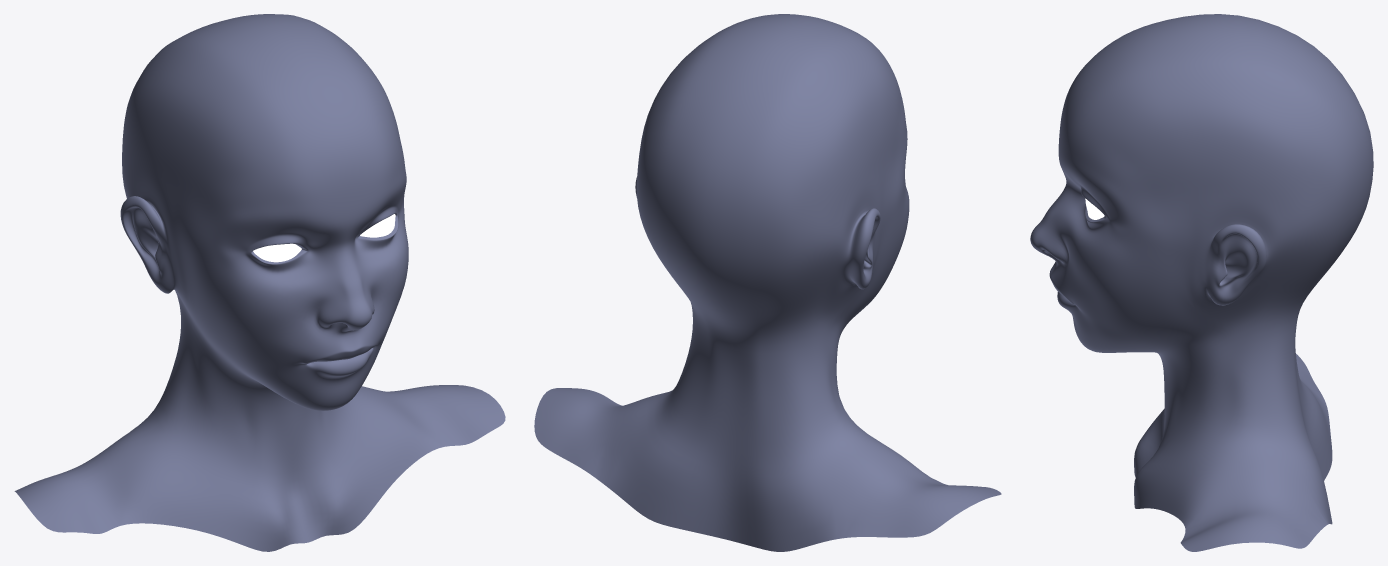
Rendered from head.glb.
3 views of the same model, side by side, from view 1: azimuth 30°, elevation 25°; view 2: azimuth 150°, elevation 25°; view 3: azimuth 270°, elevation 25° (orthographic). The views are drawn at different scales.
Visible parts, largest first — view 1: BODY, RIGHT EYE; view 2: BODY; view 3: BODY.
Part boxes in pixels (x1=…): BODY: x1=14, y1=14, x2=505, y2=551; RIGHT EYE: x1=253, y1=243, x2=301, y2=262; BODY: x1=534, y1=14, x2=1001, y2=551; BODY: x1=1030, y1=14, x2=1373, y2=551.
Bounding box in the file's own units: 8.86 × 9.02 × 5.95.
